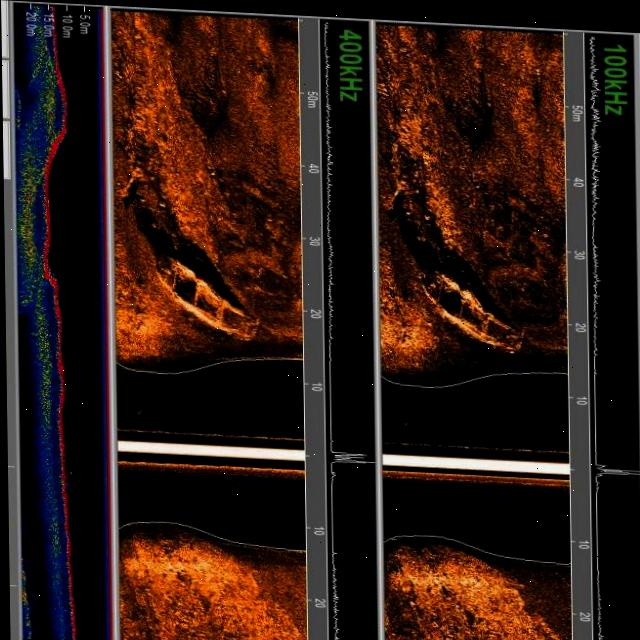shipwreck: (411, 263, 526, 354), (151, 252, 266, 342)
